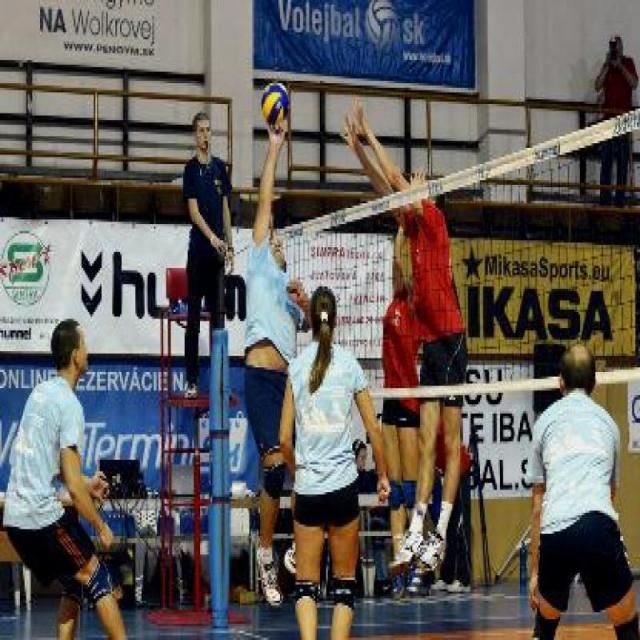volleyball: (364, 0, 399, 51), (261, 83, 289, 125)
